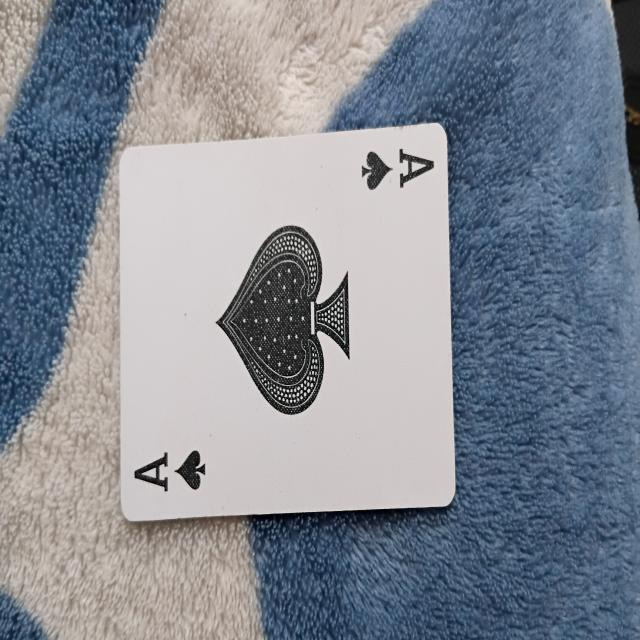AS: (119, 134, 458, 516)
